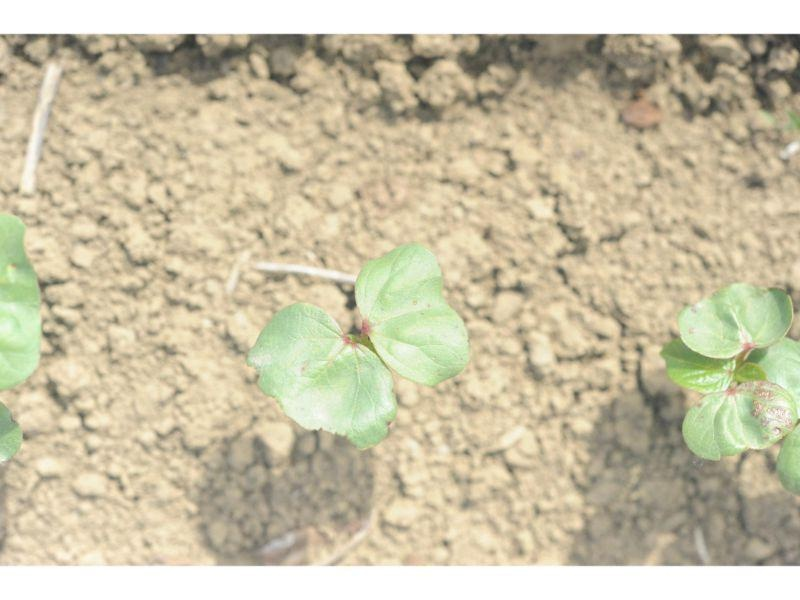cotton: (246, 243, 470, 452), (661, 278, 800, 495)
